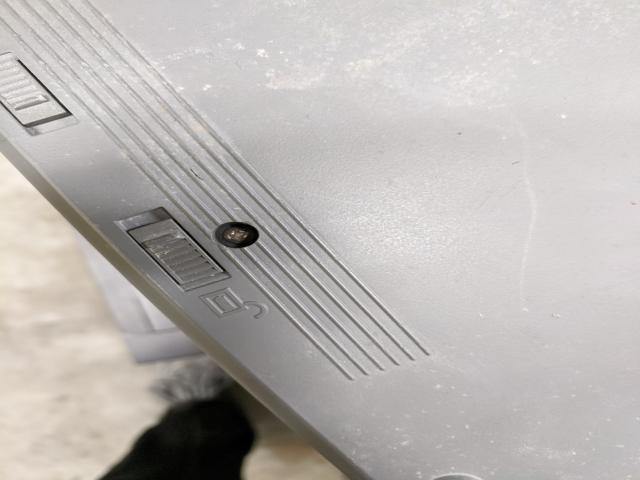CRS: (220, 225, 258, 245)
